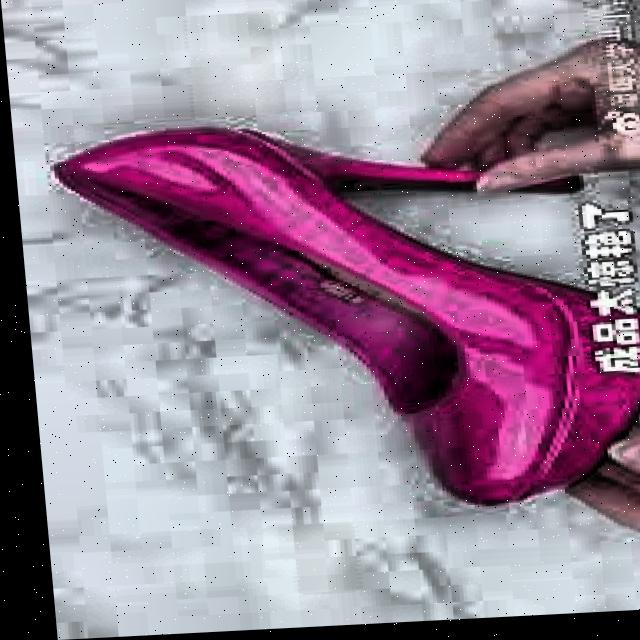shoes: (28, 97, 640, 551)
